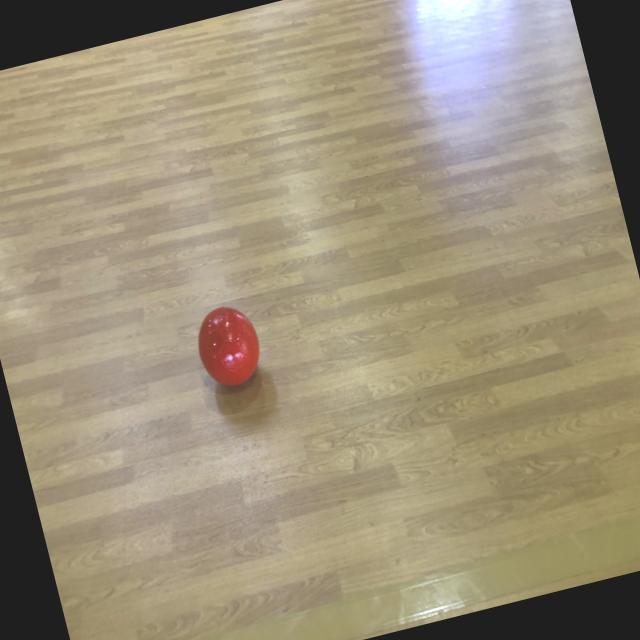red_ball: (190, 300, 268, 394)
